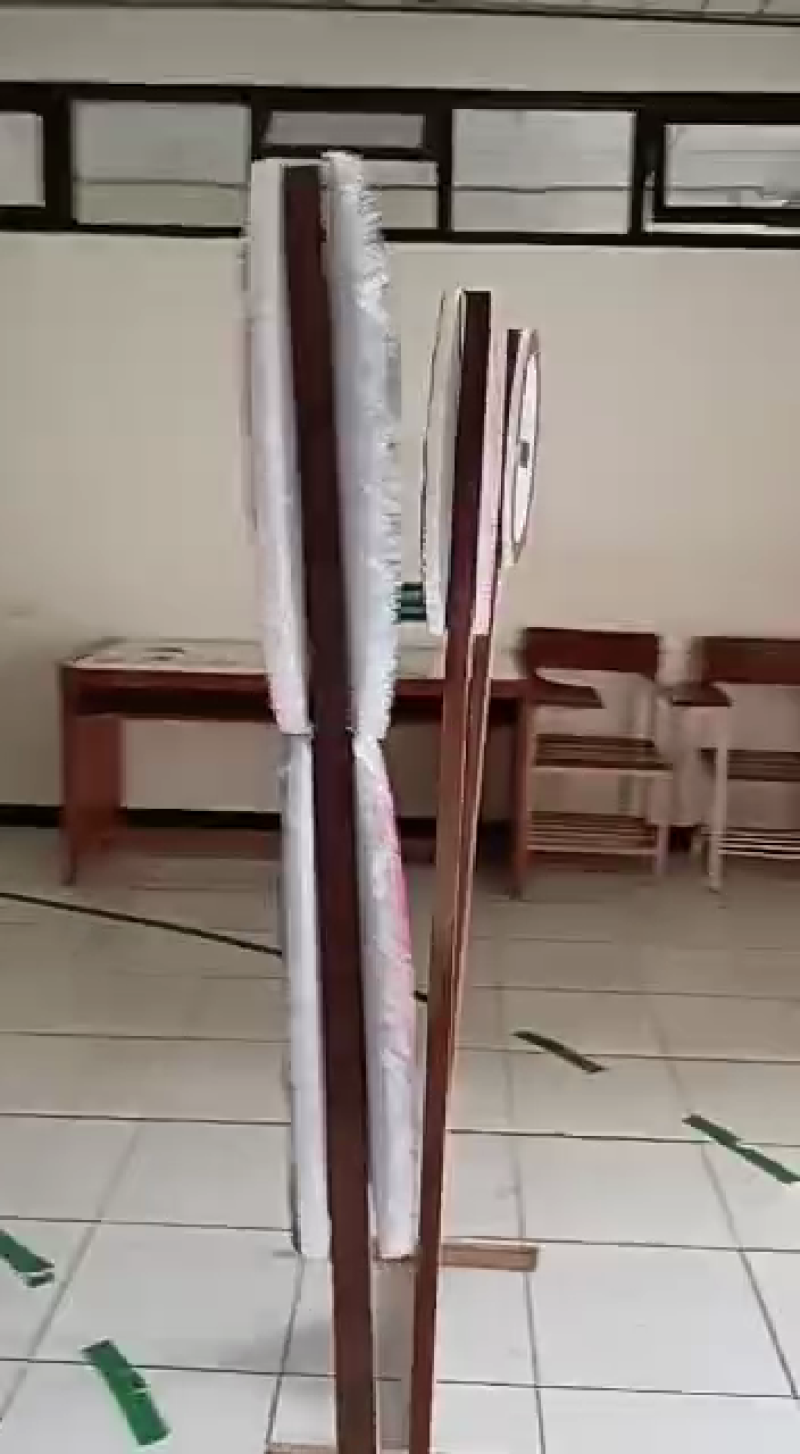gerbang tol: (503, 316, 550, 566)
